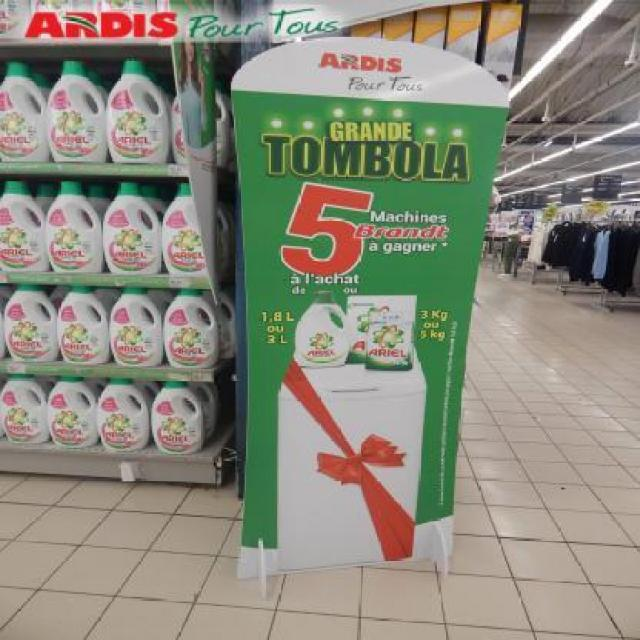Detergent: (44, 56, 107, 162), (106, 58, 170, 162), (42, 178, 104, 275), (102, 181, 160, 273), (0, 172, 49, 274), (0, 63, 48, 163), (159, 180, 207, 278), (108, 285, 164, 368), (149, 375, 206, 453), (3, 283, 59, 361), (57, 284, 109, 366), (166, 287, 218, 367), (163, 289, 215, 367), (46, 369, 97, 447), (0, 369, 49, 447), (100, 375, 149, 452)
